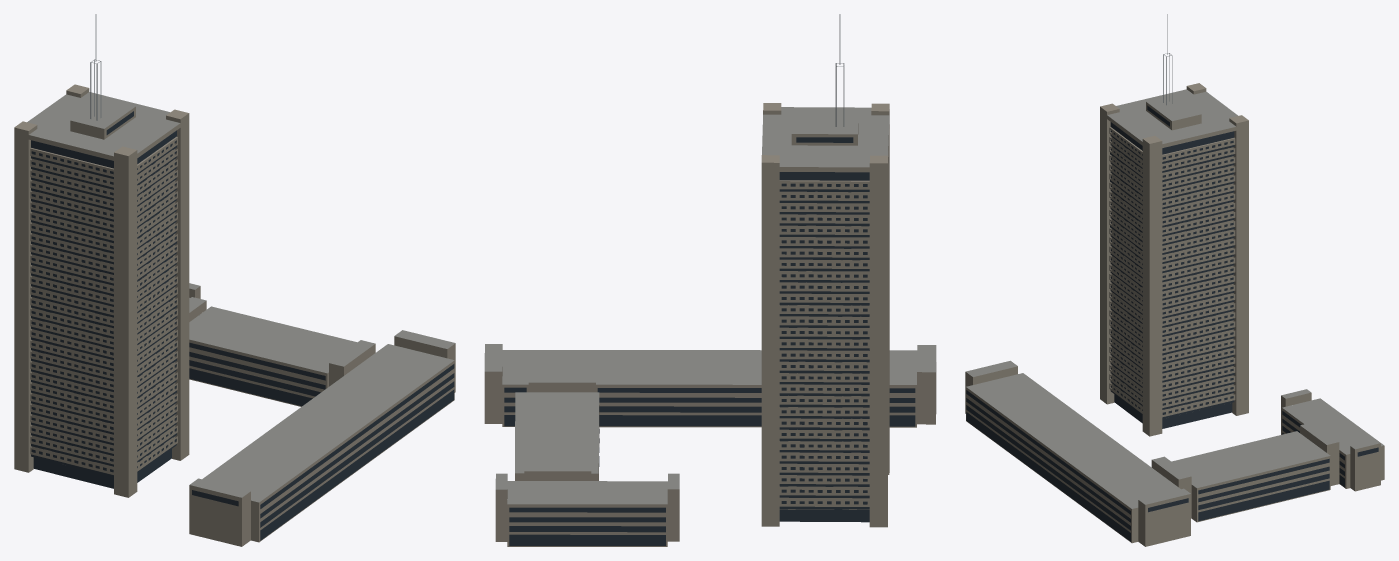
The model's file is edifice-marie-guyart-far.glb.
The picture shows the model from 3 angles, left to right: view 1: azimuth 30°, elevation 25°; view 2: azimuth 150°, elevation 25°; view 3: azimuth 270°, elevation 25°; orthographic projection. The views are drawn at different scales.
Parts seen in each view (by area): view 1: edifice-marie-guyart-0-concrete, edifice-marie-guyart-0-roof, edifice-marie-guyart-0-glass, edifice-marie-guyart-0-glow; view 2: edifice-marie-guyart-0-concrete, edifice-marie-guyart-0-roof, edifice-marie-guyart-0-glass, edifice-marie-guyart-0-glow; view 3: edifice-marie-guyart-0-concrete, edifice-marie-guyart-0-roof, edifice-marie-guyart-0-glass, edifice-marie-guyart-0-glow.
Boxes of the visible parts, x1,y1,x2,y2 form: edifice-marie-guyart-0-concrete: [14, 84, 455, 546]; edifice-marie-guyart-0-roof: [27, 92, 455, 502]; edifice-marie-guyart-0-glass: [31, 111, 454, 540]; edifice-marie-guyart-0-glow: [31, 130, 454, 508]; edifice-marie-guyart-0-concrete: [484, 103, 936, 546]; edifice-marie-guyart-0-roof: [484, 107, 936, 504]; edifice-marie-guyart-0-glass: [504, 137, 915, 545]; edifice-marie-guyart-0-glow: [651, 172, 869, 521]; edifice-marie-guyart-0-concrete: [965, 83, 1384, 546]; edifice-marie-guyart-0-roof: [966, 89, 1383, 508]; edifice-marie-guyart-0-glass: [966, 105, 1378, 541]; edifice-marie-guyart-0-glow: [977, 129, 1291, 521].
Bounding box in the file's own units: 168 × 177 × 173.
